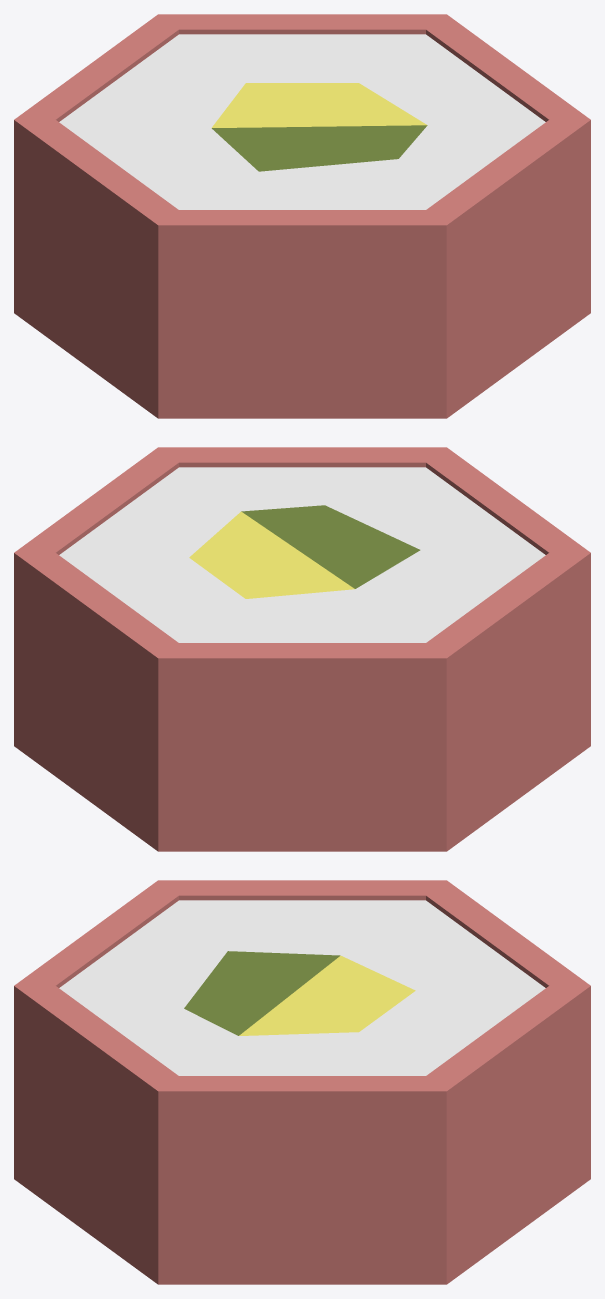
Rendered from Sushi_roll_04.fbx.
The picture shows the model from 3 angles, top to bottom: view 1: azimuth 30°, elevation 25°; view 2: azimuth 150°, elevation 25°; view 3: azimuth 270°, elevation 25°; orthographic projection.
Parts seen in each view (by area): view 1: Sushi_roll_04; view 2: Sushi_roll_04; view 3: Sushi_roll_04.
Part boxes in pixels (x1,y1,x2,y2): Sushi_roll_04: (14,14,590,418); Sushi_roll_04: (14,447,590,851); Sushi_roll_04: (14,880,590,1284).
Bounding box in the file's own units: 6.83 × 2.92 × 7.89.
